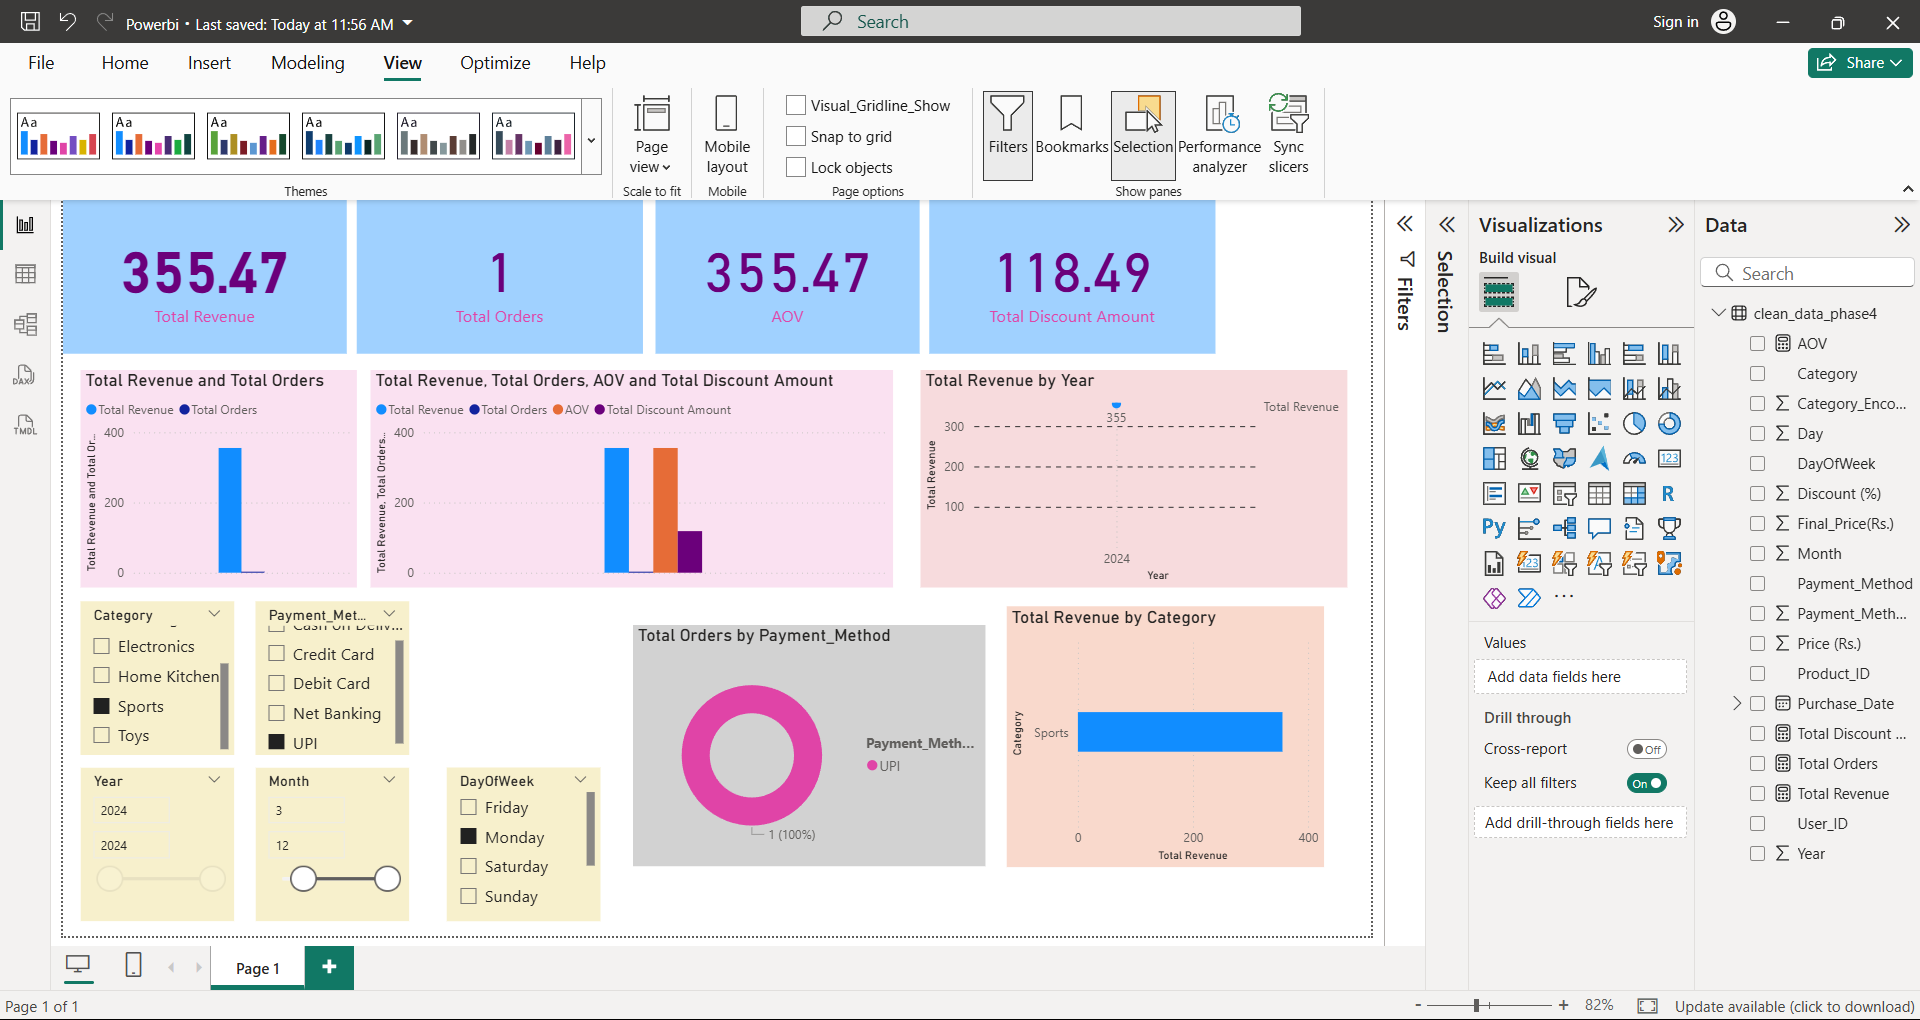

This screenshot's page, from the dashboard's own definition file:
{"tool":"powerbi","page":{"name":"Page 1","canvas":[1280,720],"ordinal":0},"visuals":[{"type":"clusteredColumnChart","fields":{"Y":["clean_data_phase4.Total Revenue","clean_data_phase4.Total Orders"]},"box":[17.5,166.2,270,212.5],"z":0},{"type":"clusteredColumnChart","fields":{"Y":["clean_data_phase4.Total Revenue","clean_data_phase4.Total Orders","clean_data_phase4.AOV","clean_data_phase4.Total Discount Amount"]},"box":[301.2,166.2,511.2,212.5],"z":1000},{"type":"card","fields":{"Values":["clean_data_phase4.Total Orders"]},"box":[287.5,0,280,150],"z":1500},{"type":"card","fields":{"Values":["clean_data_phase4.Total Revenue"]},"box":[0,0,277.5,150],"z":2000},{"type":"card","fields":{"Values":["clean_data_phase4.AOV"]},"box":[580,0,258.8,150],"z":3000},{"type":"card","fields":{"Values":["clean_data_phase4.Total Discount Amount"]},"box":[847.5,0,280,150],"z":5000},{"type":"lineChart","fields":{"Category":["clean_data_phase4.Purchase_Date.Variation.Date Hierarchy.Year","clean_data_phase4.Purchase_Date.Variation.Date Hierarchy.Quarter","clean_data_phase4.Purchase_Date.Variation.Date Hierarchy.Month","clean_data_phase4.Purchase_Date.Variation.Date Hierarchy.Day"],"Y":["clean_data_phase4.Total Revenue"]},"box":[838.8,166.2,417.5,212.5],"z":5001},{"type":"clusteredBarChart","fields":{"Category":["clean_data_phase4.Category"],"Y":["clean_data_phase4.Total Revenue"]},"box":[923.8,397.5,310,255],"z":5002},{"type":"donutChart","fields":{"Category":["clean_data_phase4.Payment_Method"],"Y":["clean_data_phase4.Total Orders"]},"box":[557.5,416.2,345,236.2],"z":5003},{"type":"slicer","fields":{"Values":["clean_data_phase4.Category"]},"box":[17.5,392.5,150,150],"z":5004},{"type":"slicer","fields":{"Values":["clean_data_phase4.Payment_Method"]},"box":[188.8,392.5,150,150],"z":5005},{"type":"slicer","fields":{"Values":["clean_data_phase4.Year"]},"box":[17.5,555,150,150],"z":5006},{"type":"slicer","fields":{"Values":["clean_data_phase4.Month"]},"box":[188.8,555,150,150],"z":5007},{"type":"slicer","fields":{"Values":["clean_data_phase4.DayOfWeek"]},"box":[375,555,150,150],"z":5008}]}

Visuals, with their boxes on the page's 1280x720 design canvas (x1, y1, x2, y2). These are canvas units, not pixel positions in the 1920x1020 screenshot, which may show the page scaled, cropped or inside an application window:
clusteredColumnChart - clean_data_phase4.Total Revenue x clean_data_phase4.Total Orders: {"left": 18, "top": 166, "right": 288, "bottom": 379}
clusteredColumnChart - clean_data_phase4.Total Revenue x clean_data_phase4.Total Orders: {"left": 301, "top": 166, "right": 812, "bottom": 379}
card - clean_data_phase4.Total Orders: {"left": 288, "top": 0, "right": 568, "bottom": 150}
card - clean_data_phase4.Total Revenue: {"left": 0, "top": 0, "right": 278, "bottom": 150}
card - clean_data_phase4.AOV: {"left": 580, "top": 0, "right": 839, "bottom": 150}
card - clean_data_phase4.Total Discount Amount: {"left": 848, "top": 0, "right": 1128, "bottom": 150}
lineChart - clean_data_phase4.Purchase_Date.Variation.Date Hierarchy.Year x clean_data_phase4.Purchase_Date.Variation.Date Hierarchy.Quarter: {"left": 839, "top": 166, "right": 1256, "bottom": 379}
clusteredBarChart - clean_data_phase4.Category x clean_data_phase4.Total Revenue: {"left": 924, "top": 398, "right": 1234, "bottom": 652}
donutChart - clean_data_phase4.Payment_Method x clean_data_phase4.Total Orders: {"left": 558, "top": 416, "right": 902, "bottom": 652}
slicer - clean_data_phase4.Category: {"left": 18, "top": 392, "right": 168, "bottom": 542}
slicer - clean_data_phase4.Payment_Method: {"left": 189, "top": 392, "right": 339, "bottom": 542}
slicer - clean_data_phase4.Year: {"left": 18, "top": 555, "right": 168, "bottom": 705}
slicer - clean_data_phase4.Month: {"left": 189, "top": 555, "right": 339, "bottom": 705}
slicer - clean_data_phase4.DayOfWeek: {"left": 375, "top": 555, "right": 525, "bottom": 705}
